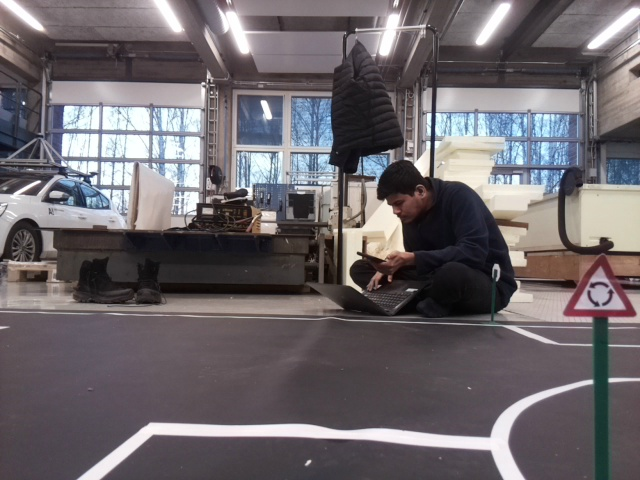Roundabout: (562, 247, 637, 317)
